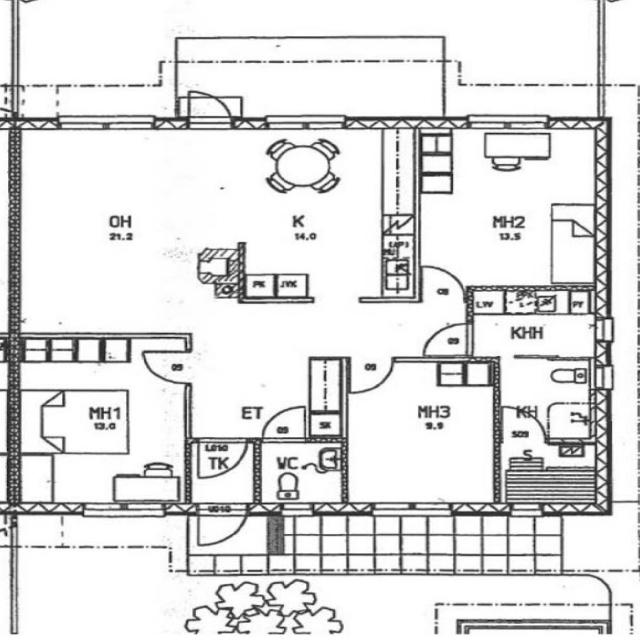door: (199, 503, 246, 550), (200, 438, 248, 478), (190, 88, 230, 130), (142, 351, 190, 383), (350, 358, 392, 394), (503, 408, 545, 444), (426, 324, 473, 355), (264, 408, 305, 442), (422, 267, 463, 301)
